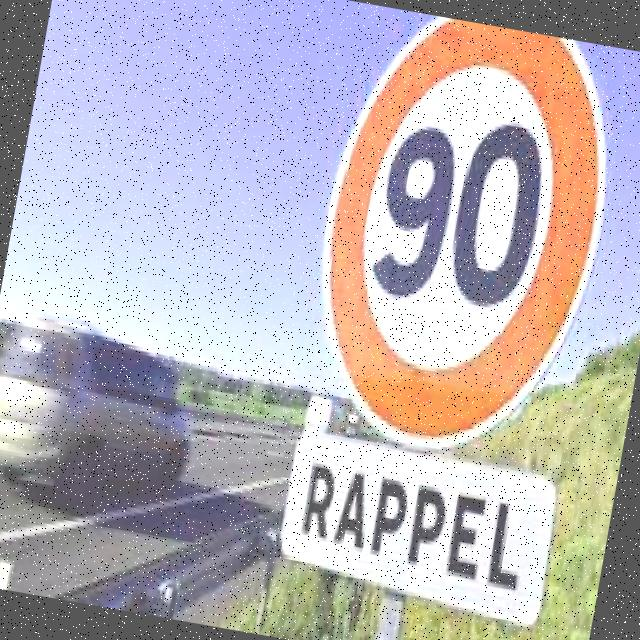Ograniczenie predkosci do 90: (295, 5, 624, 466)
